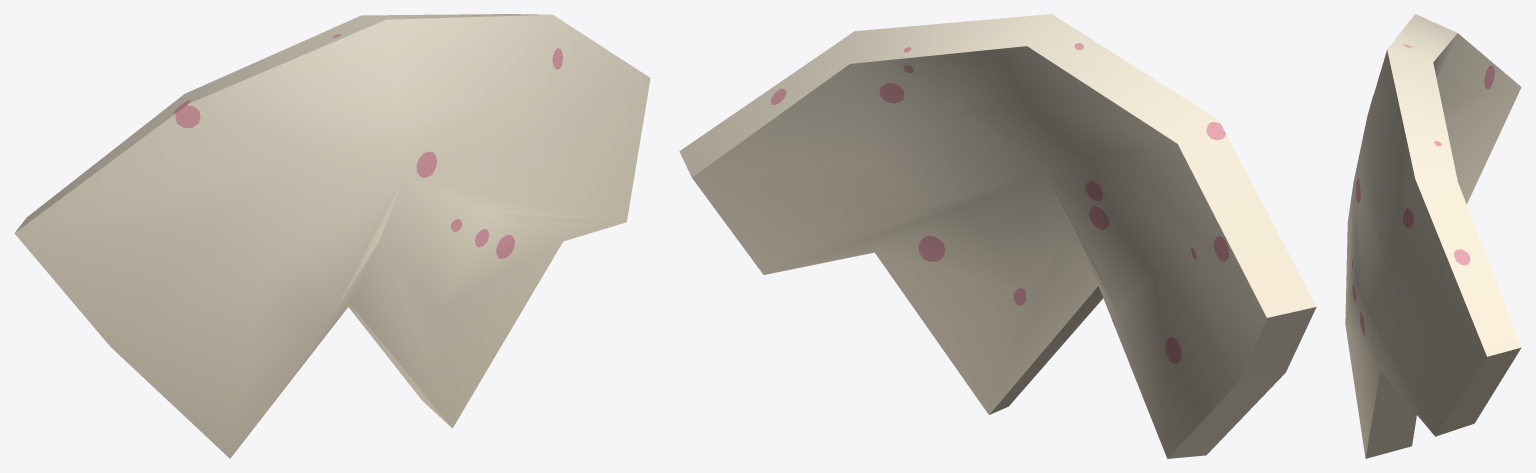
Rendered from egg_shell_fragment.fbx.
The picture shows the model from 3 angles, left to right: view 1: azimuth 30°, elevation 25°; view 2: azimuth 150°, elevation 25°; view 3: azimuth 270°, elevation 25°; orthographic projection. The views are drawn at different scales.
Visible parts, largest first — view 1: egg_shell_fragment; view 2: egg_shell_fragment; view 3: egg_shell_fragment.
Part boxes in pixels (box(x1,y1,x2,y2)): egg_shell_fragment: box(14, 14, 650, 458); egg_shell_fragment: box(679, 14, 1316, 458); egg_shell_fragment: box(1345, 14, 1521, 458).
Size of the model in its own units: 99.03 by 61.54 by 25.56.
Materials: 1 (1 with a texture image).
